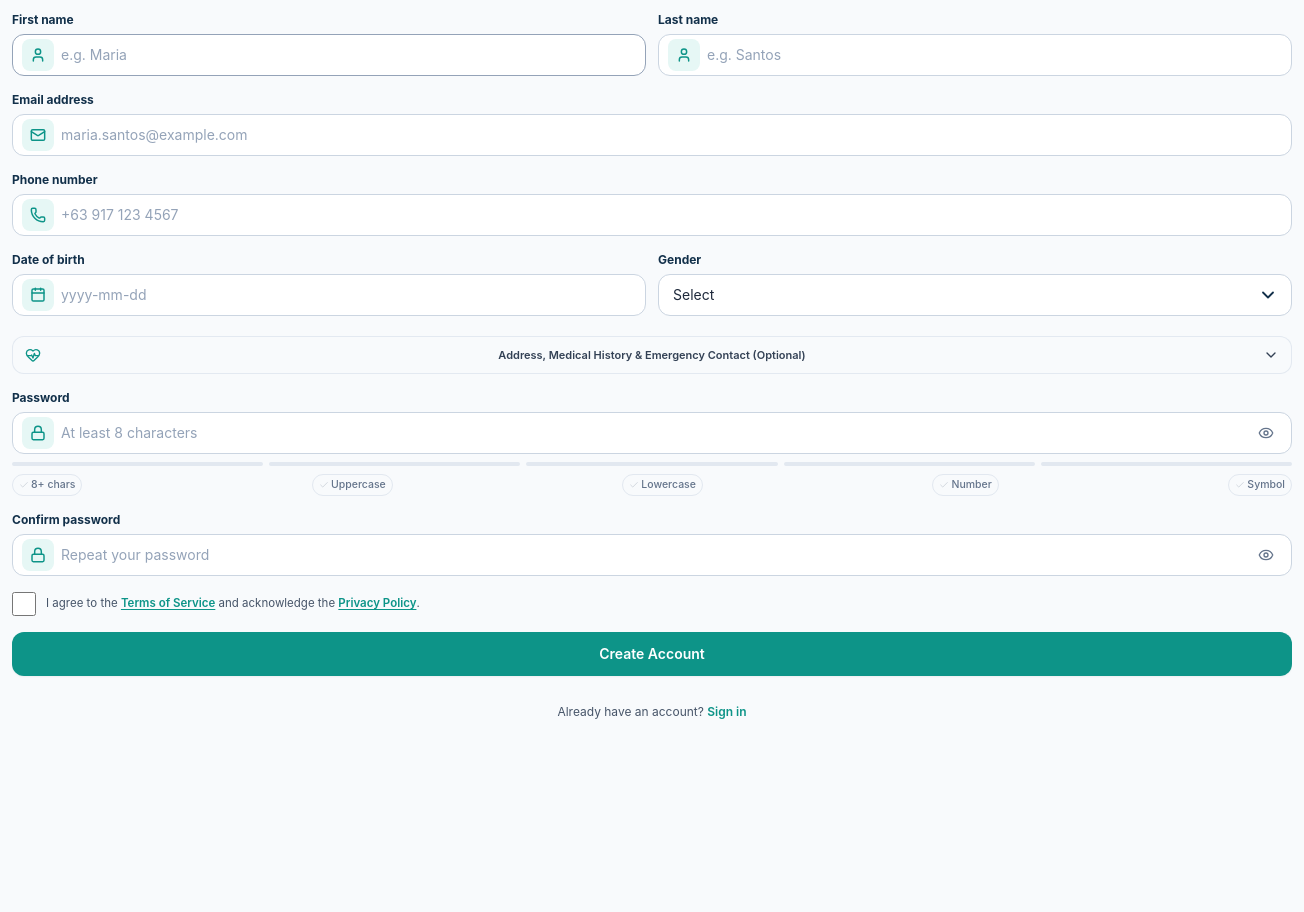
it: RegisterForm Name Input Restrictions › strips numbers when pasted or changed into First name and Last name while keeping valid name characters
Check: the button "Create Account" is enabled, box x1=12 y1=632 x2=1292 y2=676
Type "Maria123 Clara45" into the field labelled "First name".
click(329, 55); type("Maria123 Clara45")  # box x1=12 y1=34 x2=646 y2=76
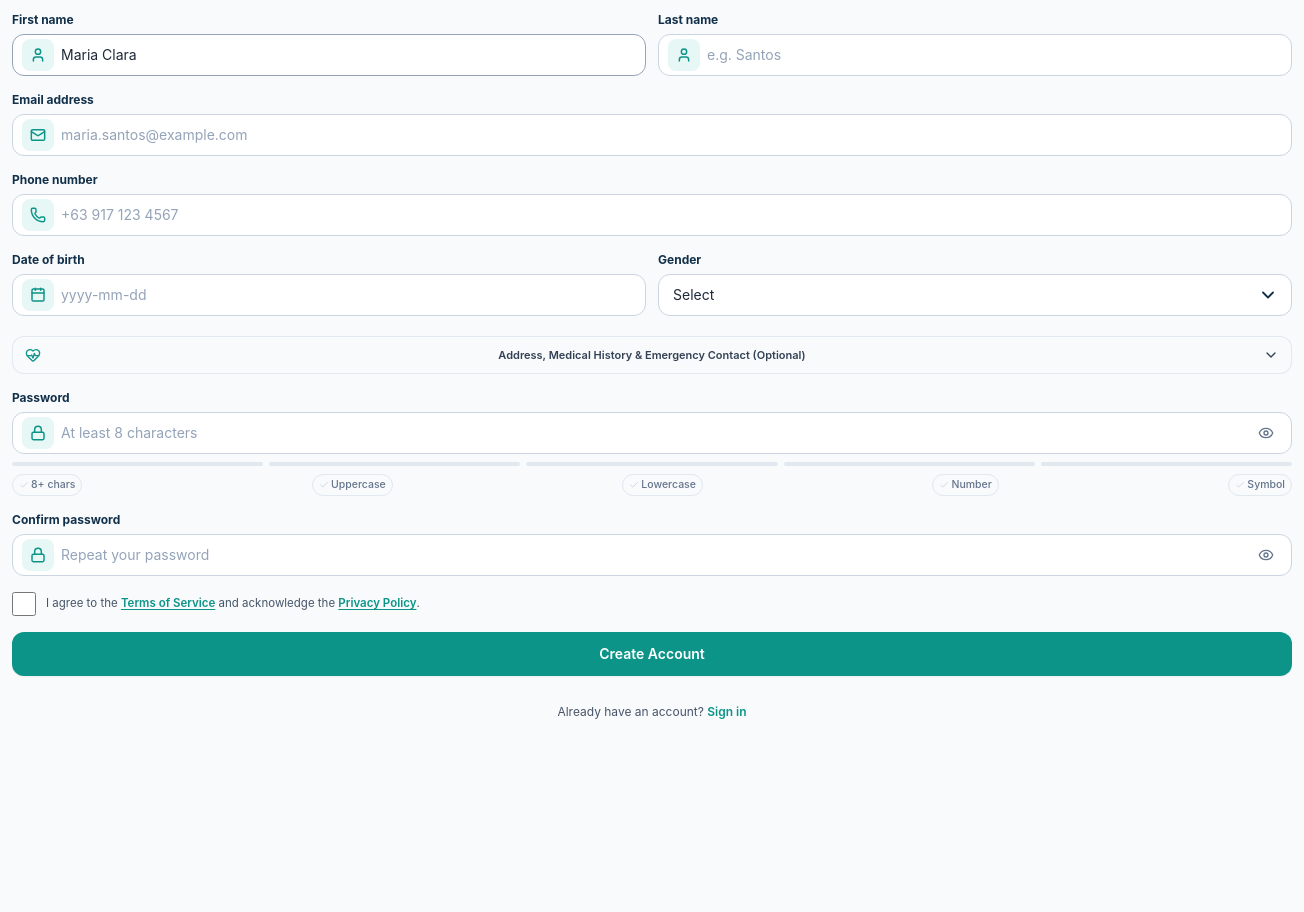
Type "De la Cruz-99 O'Brien0" into the field labelled "Last name".
click(975, 55); type("De la Cruz-99 O'Brien0")  # box x1=658 y1=34 x2=1292 y2=76
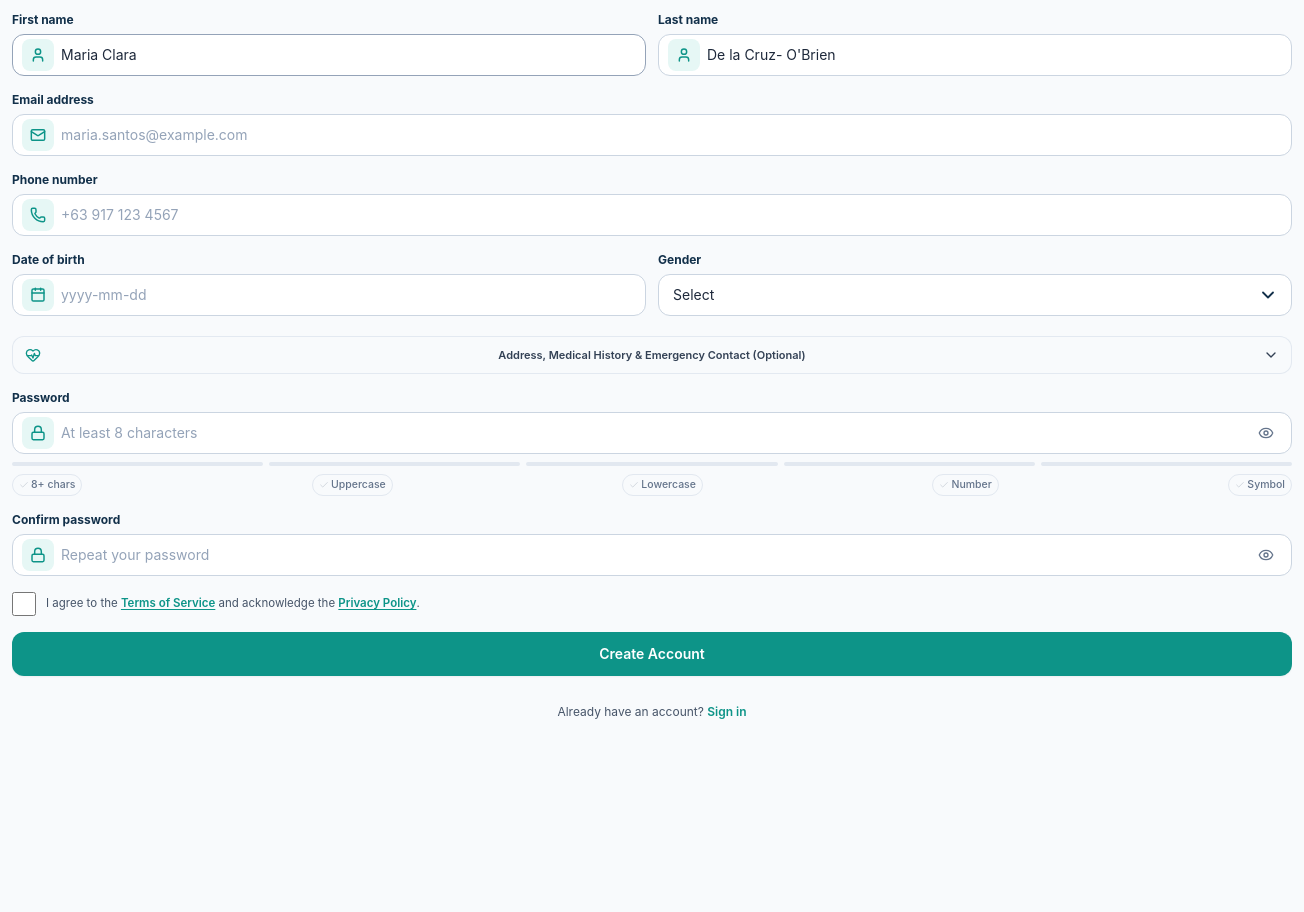
Check: the field labelled "First name" holds "Maria Clara", box x1=12 y1=34 x2=646 y2=76
Check: the field labelled "Last name" holds "De la Cruz- O'Brien", box x1=658 y1=34 x2=1292 y2=76
